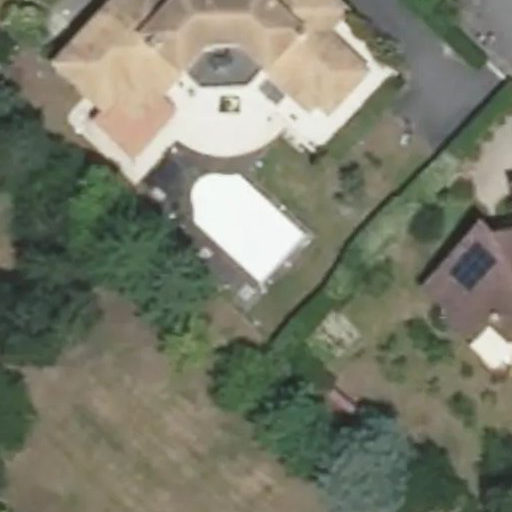pool: (195, 224, 315, 259)
